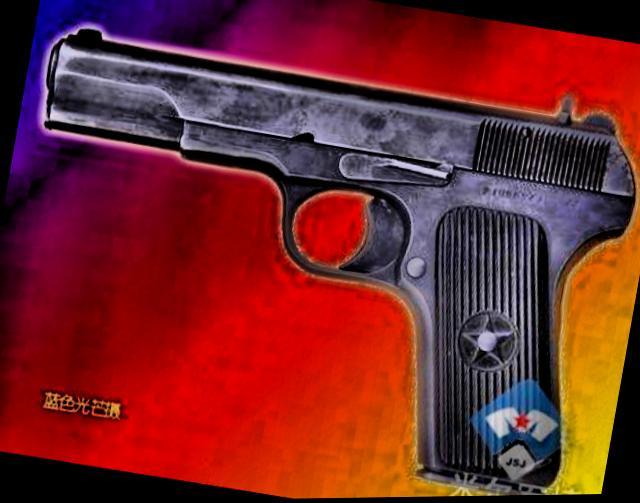pistol: (0, 6, 640, 503)
